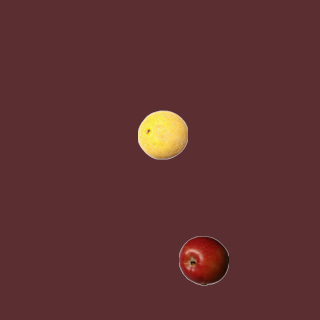Apple Braeburn: (178, 235, 228, 285)
Cantaloupe 1: (137, 109, 187, 159)
